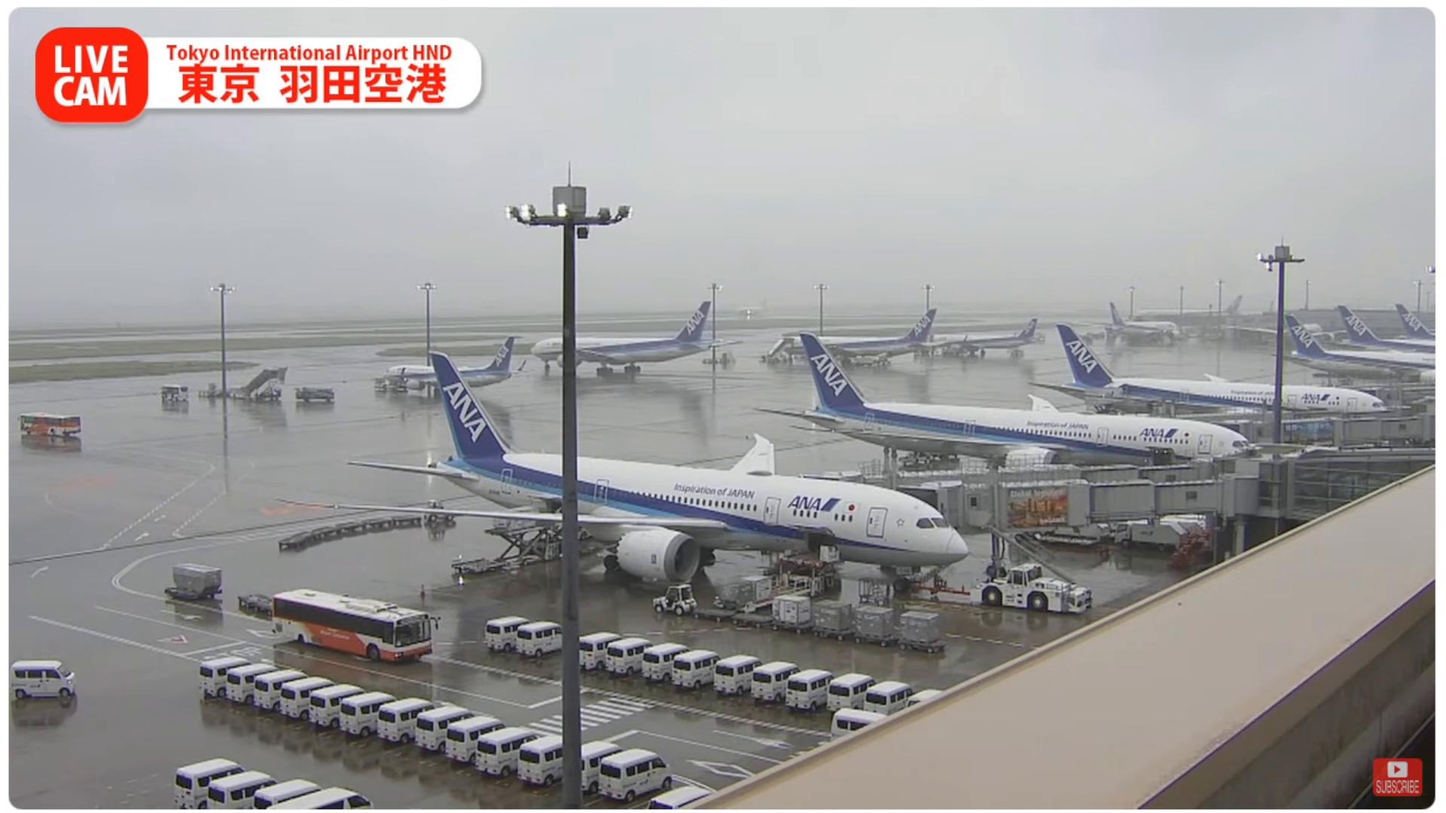APS: (968, 562, 1094, 614)
Aerobridge: (892, 474, 1261, 535), (796, 455, 1210, 487)
Airplane: (270, 351, 970, 592)
Dolly: (693, 601, 947, 653), (165, 584, 224, 601)
JCPL: (451, 522, 563, 573), (279, 514, 422, 551), (744, 552, 838, 607)
Tractor: (653, 583, 701, 615), (423, 499, 456, 523)
Window: (1292, 458, 1433, 516)
